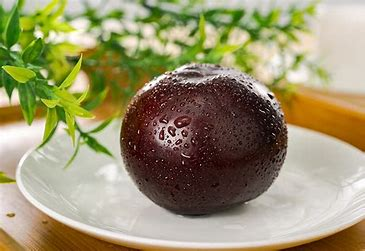plum_A: (121, 62, 289, 217)
